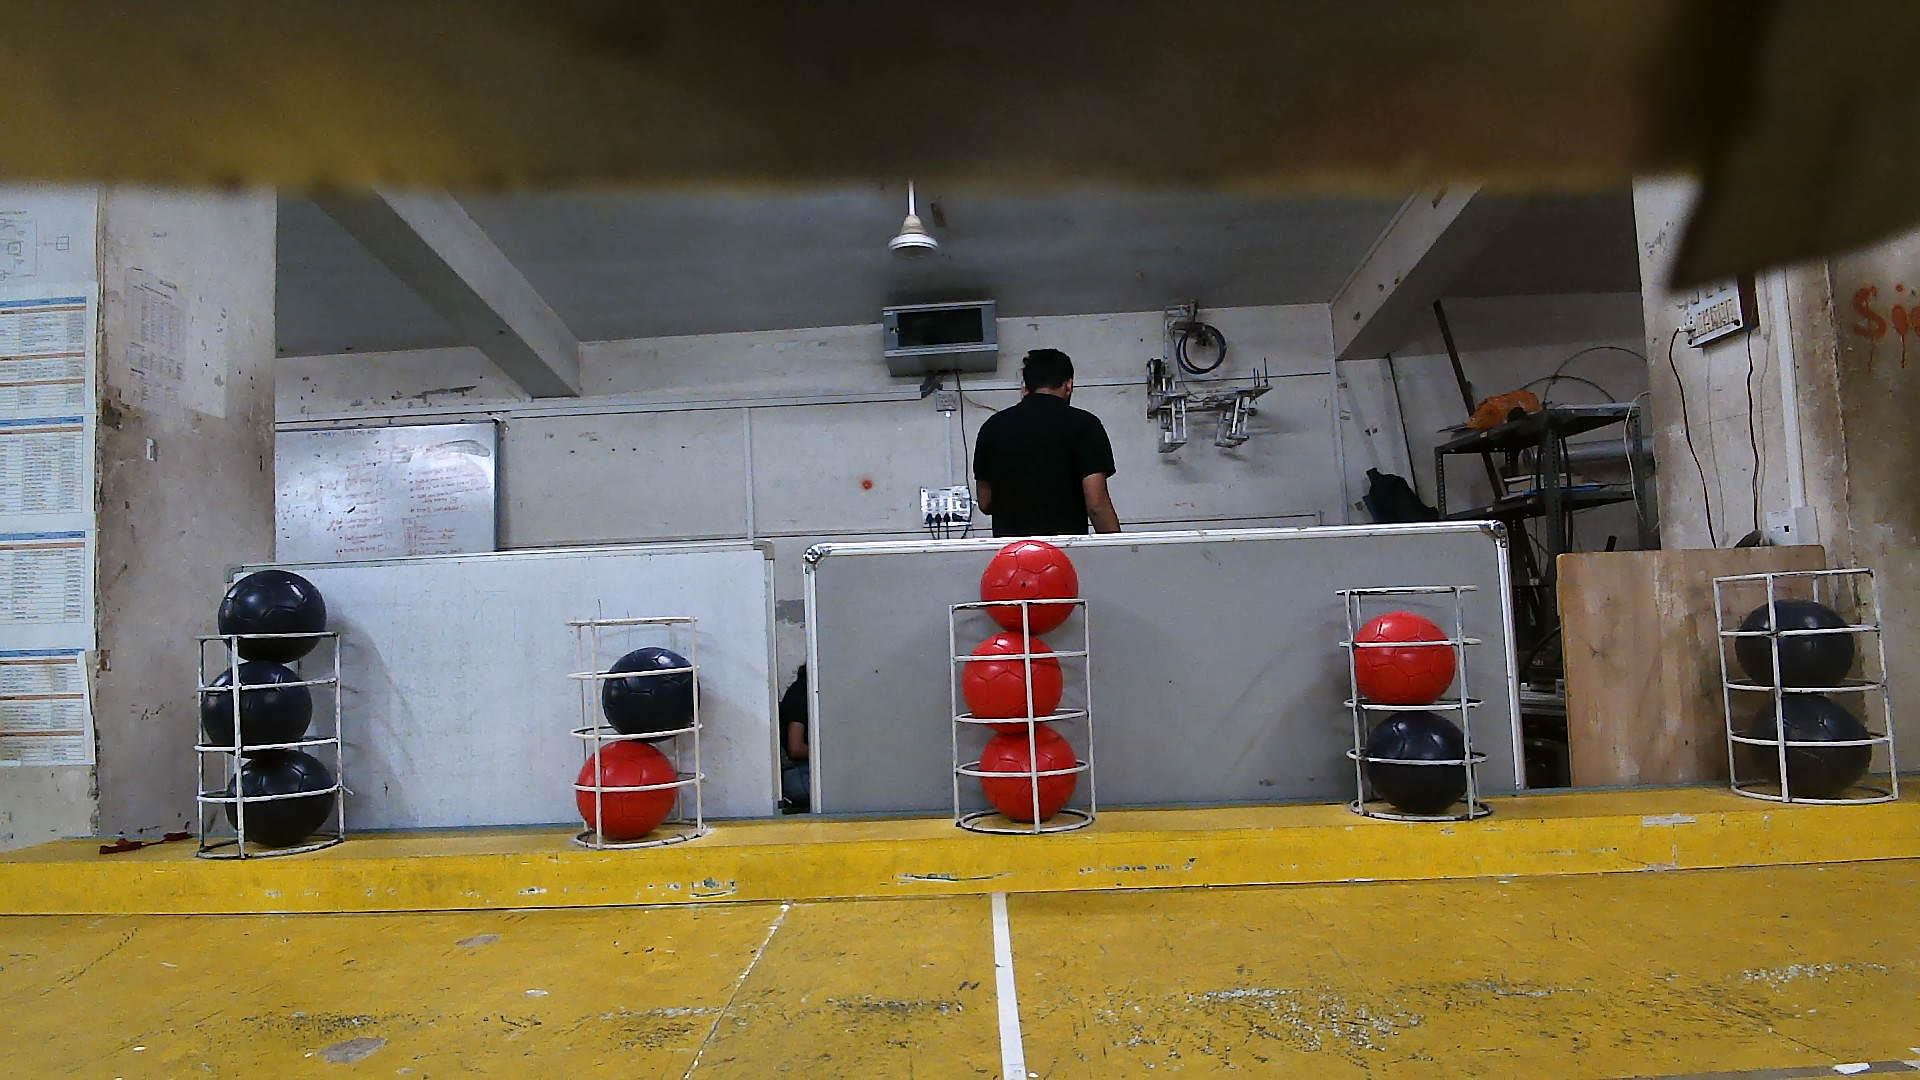dhoka: (1745, 692, 1869, 796), (222, 746, 339, 848), (1737, 600, 1857, 690), (215, 572, 327, 666), (1367, 709, 1468, 814), (199, 661, 311, 750), (604, 649, 694, 735)
laale: (960, 630, 1065, 732), (580, 740, 675, 841), (978, 541, 1080, 634), (1354, 612, 1455, 705), (978, 728, 1076, 822)
